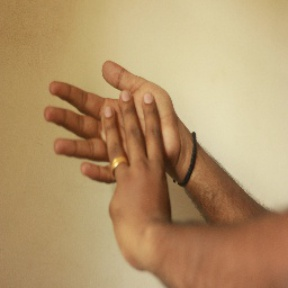M: (40, 57, 184, 215)
